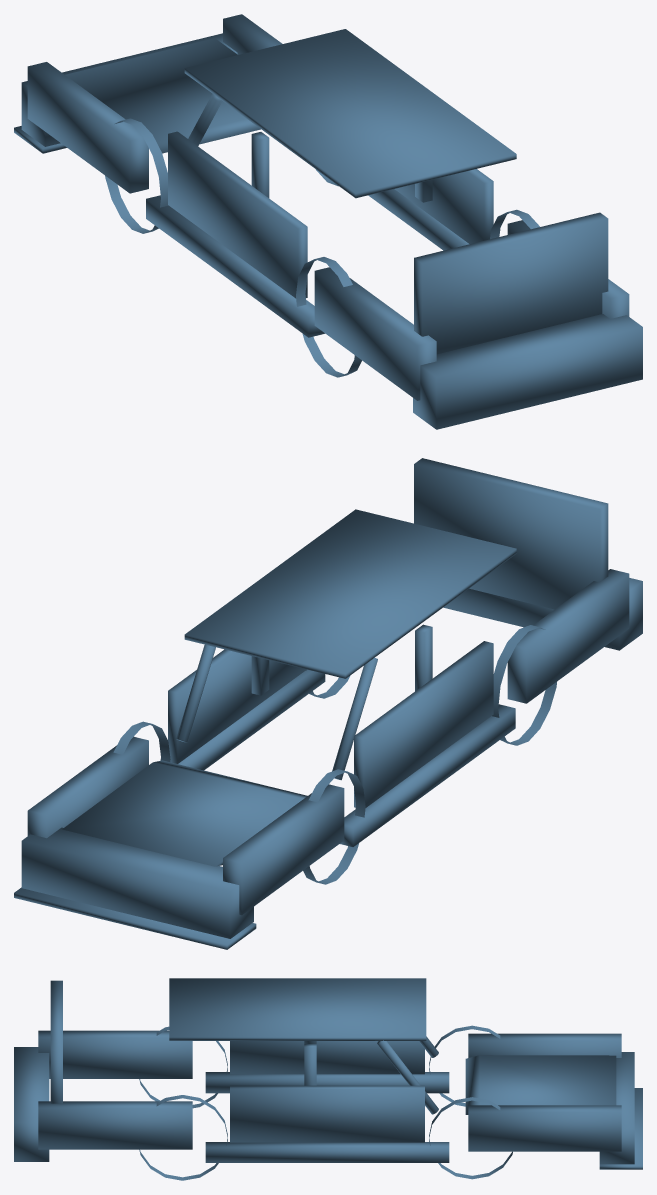
File: body_shooting_brake.glb
The picture shows the model from 3 angles, top to bottom: view 1: azimuth 30°, elevation 25°; view 2: azimuth 150°, elevation 25°; view 3: azimuth 270°, elevation 25°; orthographic projection. The views are drawn at different scales.
Visible parts, largest first — view 1: BODY_Cabin, BODY_RearClip, BODY_FrontClip; view 2: BODY_Cabin, BODY_FrontClip, BODY_RearClip; view 3: BODY_Cabin, BODY_FrontClip, BODY_RearClip.
Boxes of the visible parts, <box> form: BODY_Cabin: <box>146,29,516,337</box>; BODY_RearClip: <box>296,209,642,429</box>; BODY_FrontClip: <box>14,14,338,233</box>; BODY_Cabin: <box>168,509,516,846</box>; BODY_FrontClip: <box>14,721,365,949</box>; BODY_RearClip: <box>306,458,642,745</box>; BODY_Cabin: <box>169,978,449,1162</box>; BODY_FrontClip: <box>429,1025,642,1179</box>; BODY_RearClip: <box>14,980,227,1180</box>.
Bounding box in the file's own units: 1.79 × 1.45 × 6.08.
